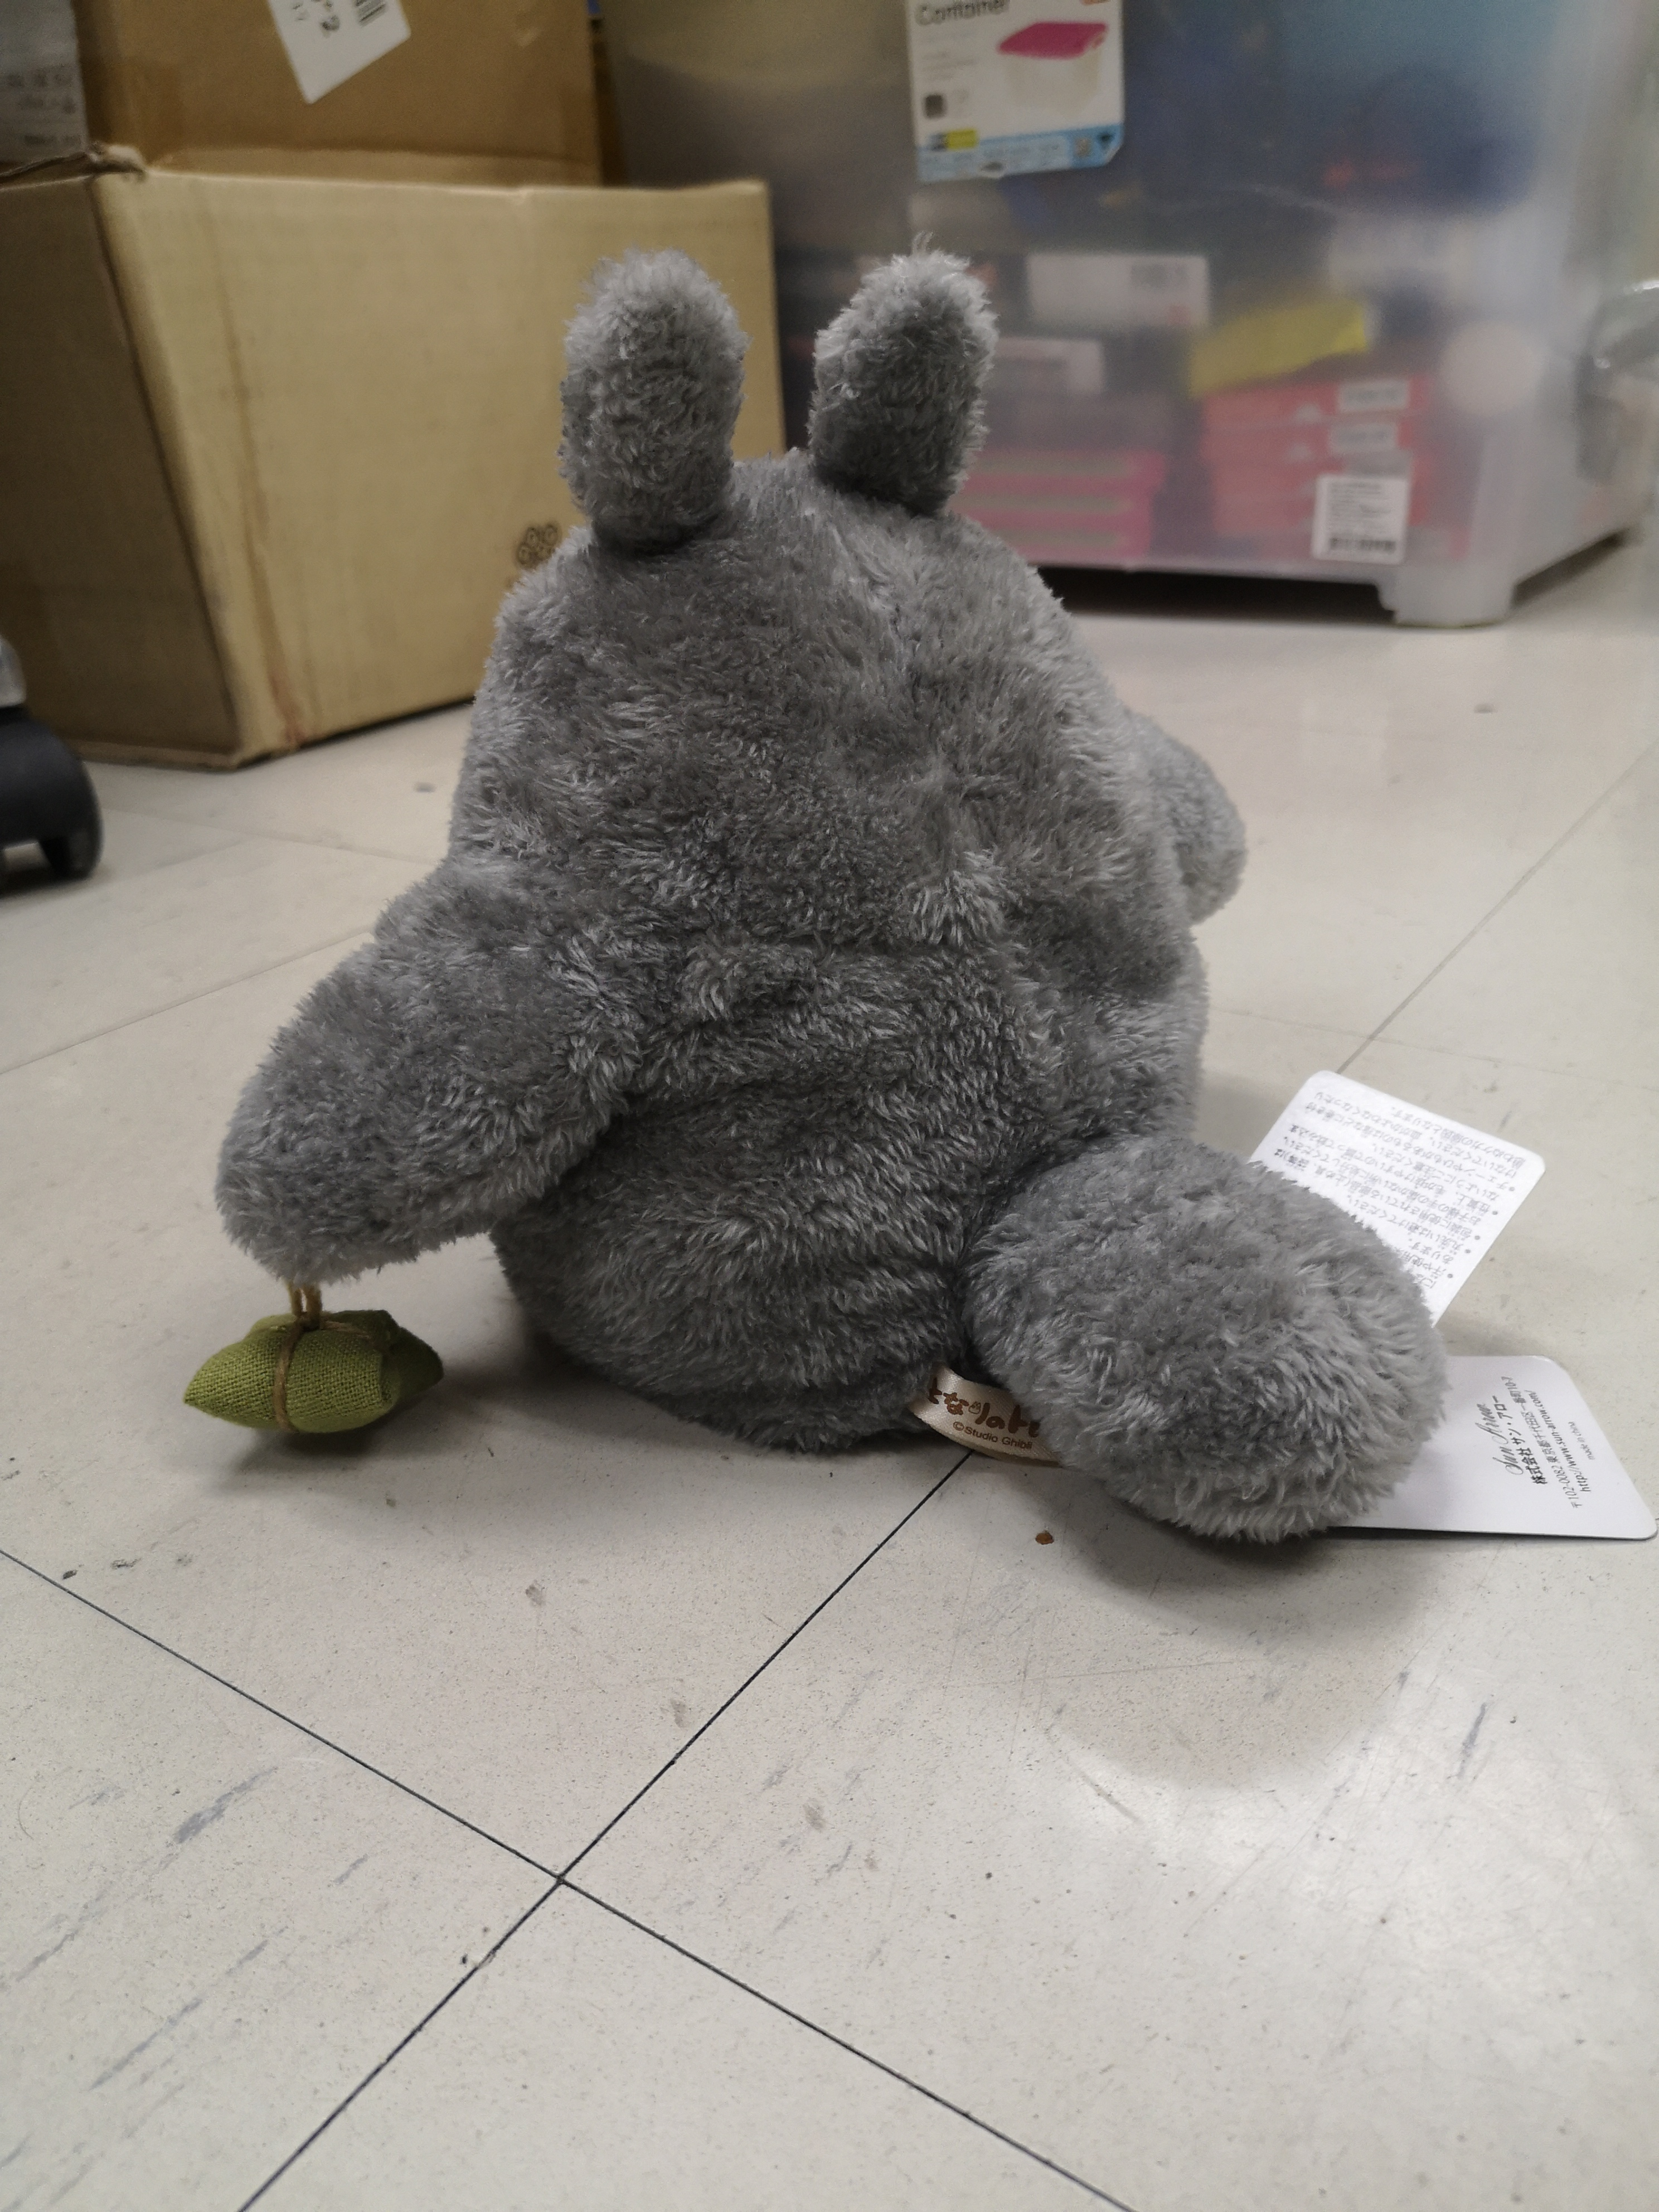totoro: (166, 232, 1452, 1571)
